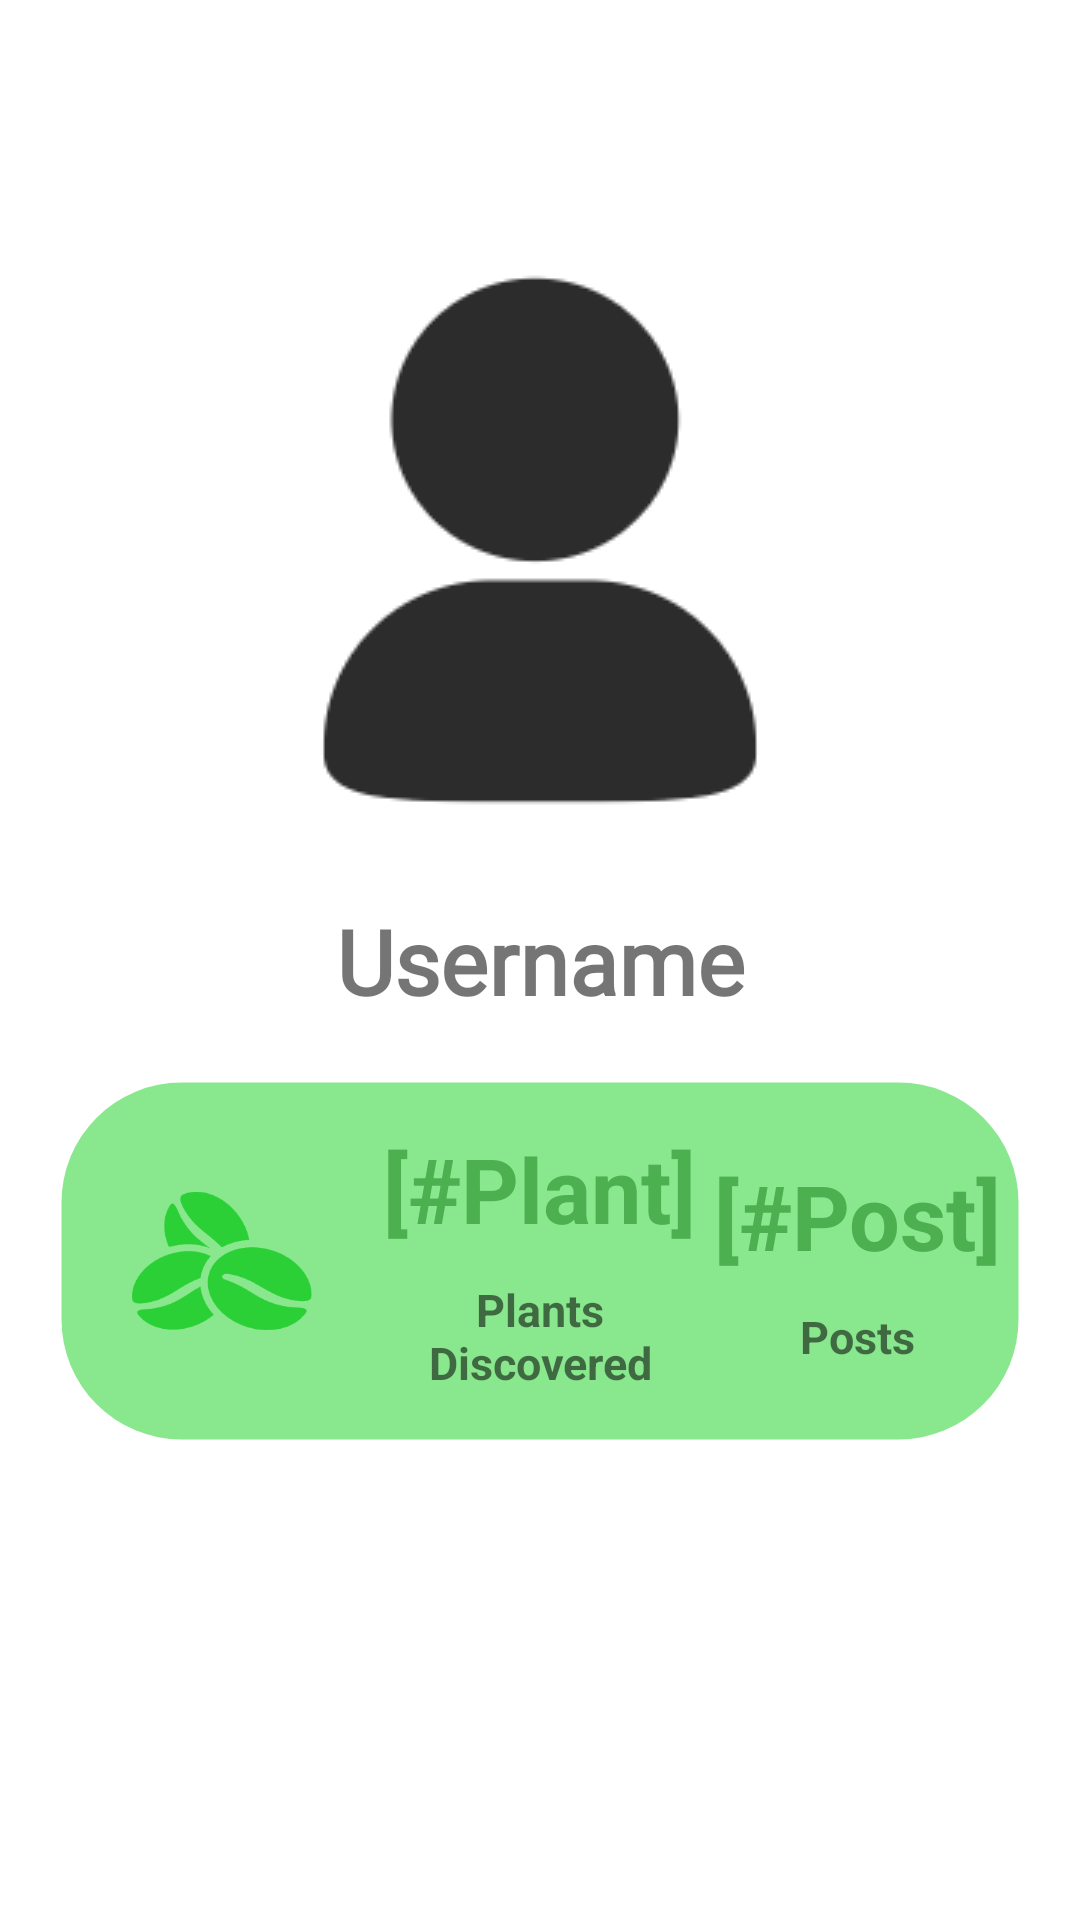

Point at icon controls on the screen. Image size 1080 × 1920, points as (x=x, y=y).
seed: (x=222, y=1261)
